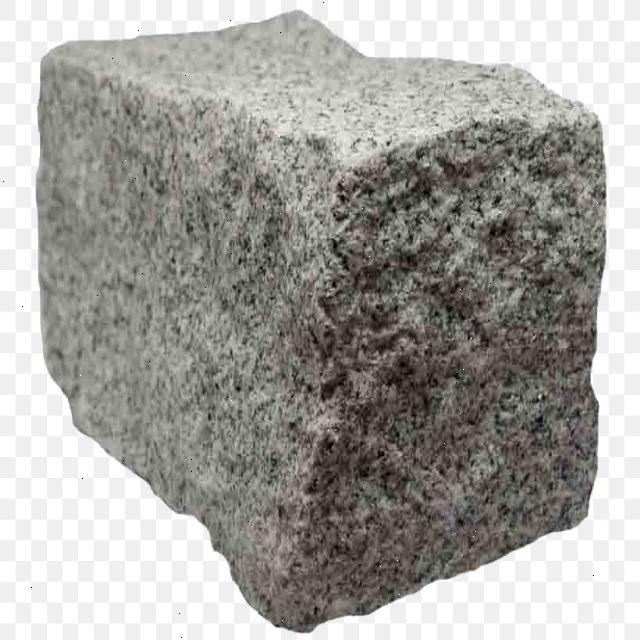Igneous: (16, 3, 608, 640)
